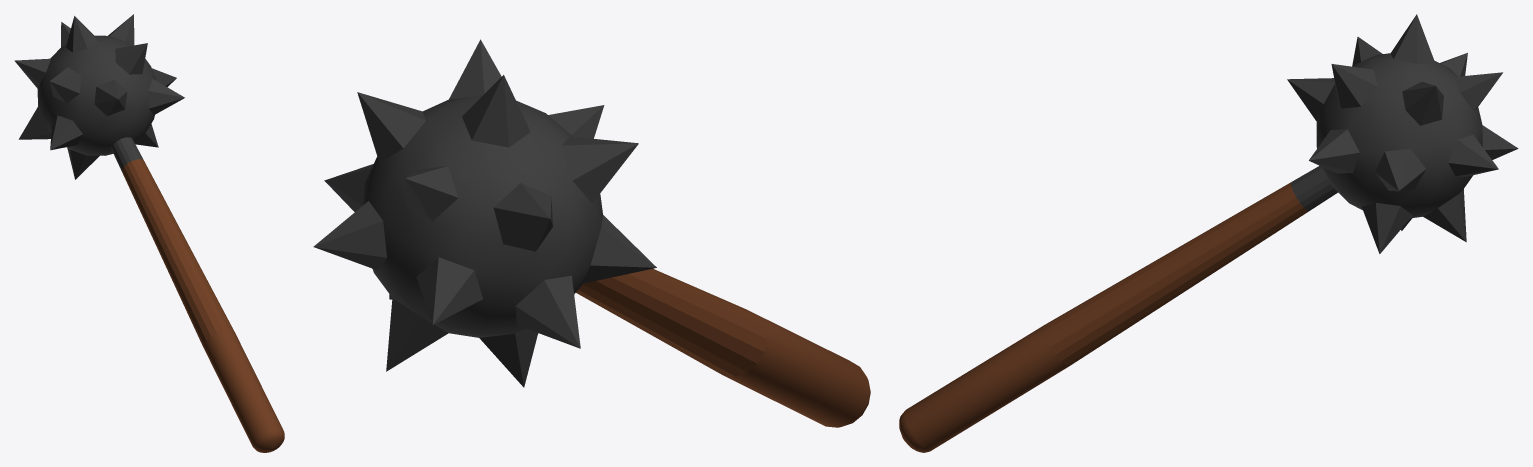
File: mace.glb
The picture shows the model from 3 angles, left to right: view 1: azimuth 30°, elevation 25°; view 2: azimuth 150°, elevation 25°; view 3: azimuth 270°, elevation 25°; orthographic projection. The views are drawn at different scales.
Visible parts, largest first — view 1: ironclub, ironclub.001; view 2: ironclub, ironclub.001; view 3: ironclub, ironclub.001.
Boxes of the visible parts, x1,y1,x2,y2 form: ironclub: (14,14,184,179); ironclub.001: (121,159,284,452); ironclub: (313,39,656,387); ironclub.001: (576,268,870,427); ironclub: (1287,14,1518,253); ironclub.001: (899,182,1308,452).
Bounding box in the file's own units: 1.04 × 2.08 × 2.74.
